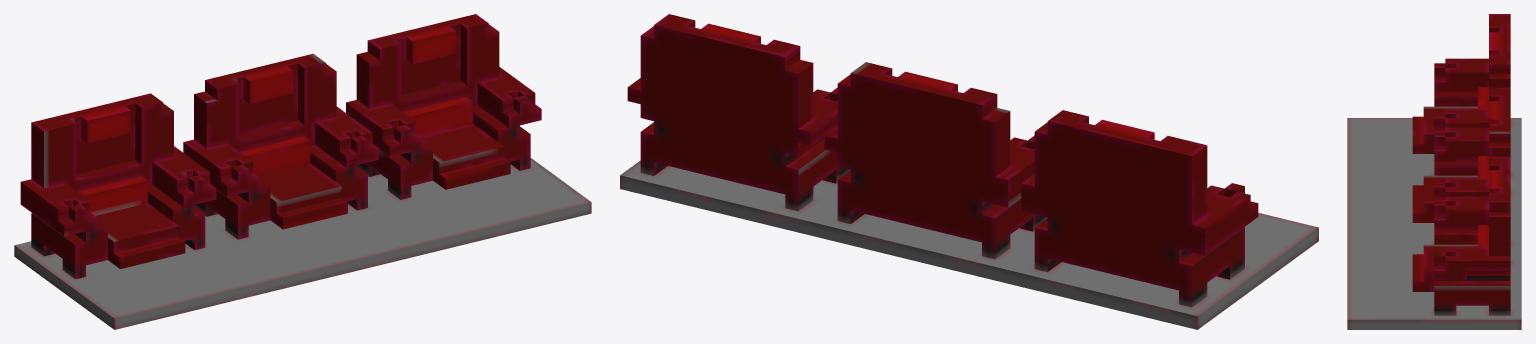
The model's file is TheatreChair_86.obj.
The picture shows the model from 3 angles, left to right: view 1: azimuth 30°, elevation 25°; view 2: azimuth 150°, elevation 25°; view 3: azimuth 270°, elevation 25°; orthographic projection. The views are drawn at different scales.
Parts seen in each view (by area): view 1: TheatreChair_86; view 2: TheatreChair_86; view 3: TheatreChair_86.
Boxes of the visible parts, x1=… form: TheatreChair_86: x1=14, y1=14, x2=591, y2=329; TheatreChair_86: x1=620, y1=14, x2=1318, y2=329; TheatreChair_86: x1=1347, y1=14, x2=1521, y2=329.
Size of the model in its own units: 4.4 by 1.2 by 1.6.
Materials: 1 (1 with a texture image).
